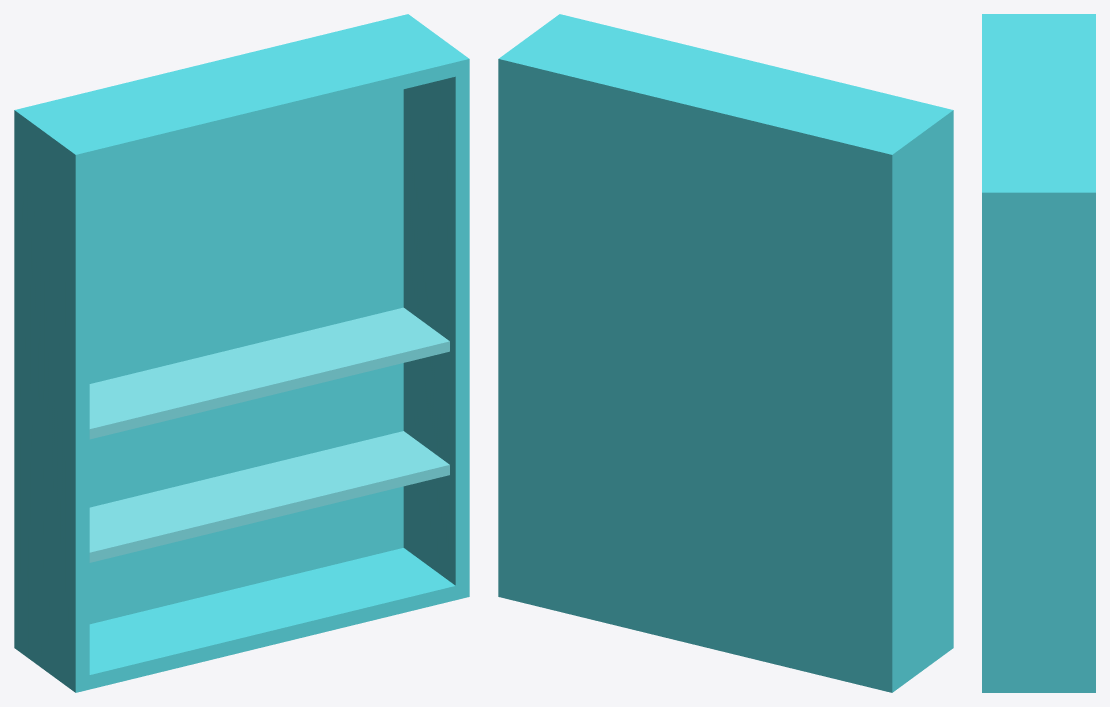
Rendered from Cabinet_5a.fbx.
3 renders of one model, left to right at view 1: azimuth 30°, elevation 25°; view 2: azimuth 150°, elevation 25°; view 3: azimuth 270°, elevation 25°, orthographic. The views are drawn at different scales.
Visible parts, largest first — view 1: Cabinet_5a; view 2: Cabinet_5a; view 3: Cabinet_5a.
Boxes of the visible parts, <box> form: Cabinet_5a: <box>14,14,469,692</box>; Cabinet_5a: <box>498,14,953,692</box>; Cabinet_5a: <box>982,14,1095,692</box>.
Size of the model in its own units: 0.8811 by 1.15 by 0.2375.
